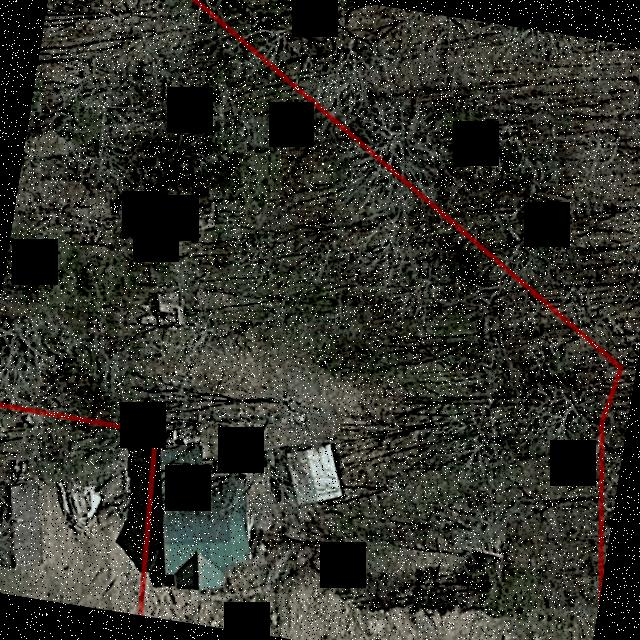House: (161, 437, 249, 590), (286, 444, 340, 504)
